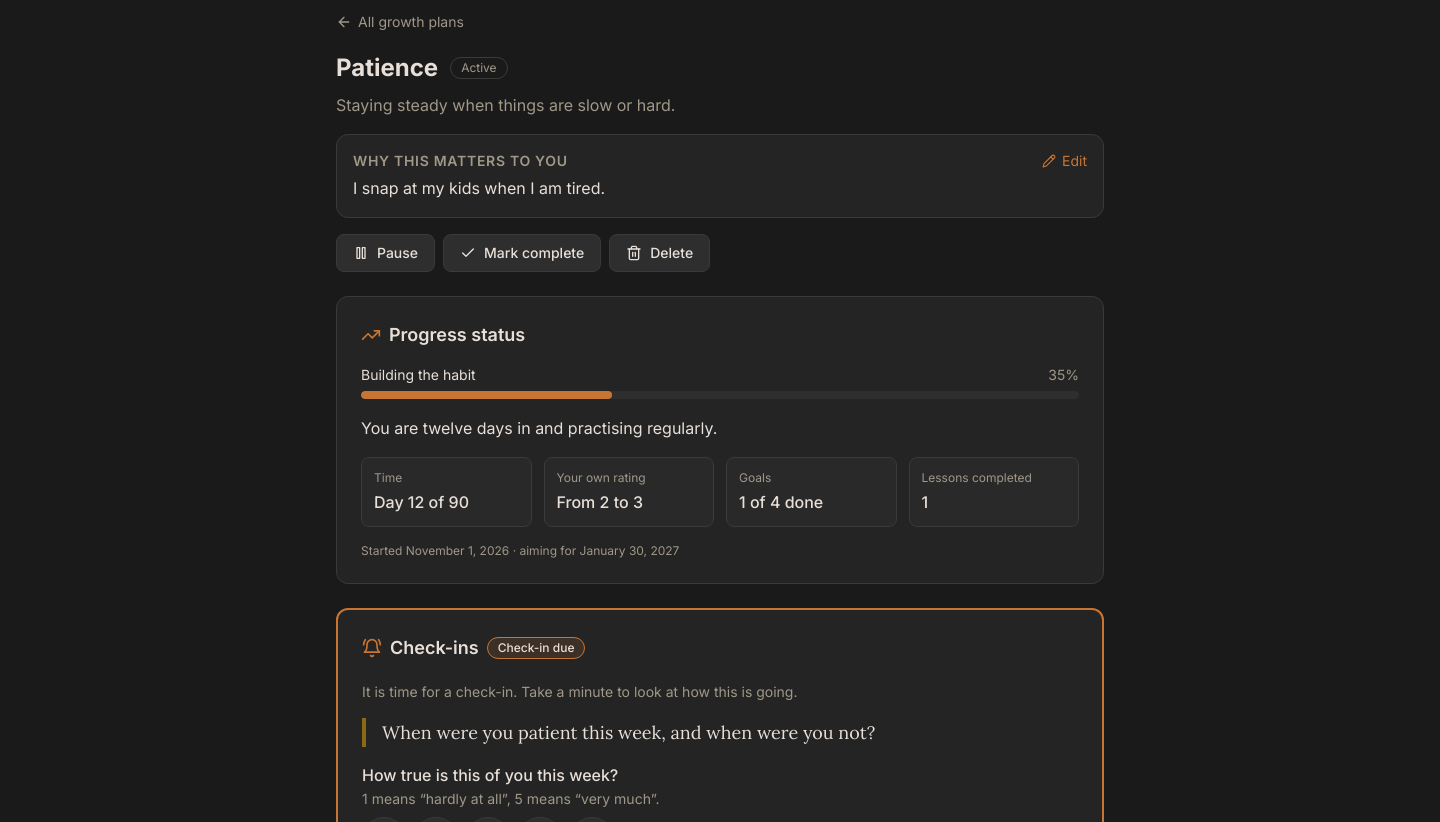
Test: GrowthPlanPage › marks the plan complete
Click the button "Mark complete" at (522, 253), box [443,234,601,272]
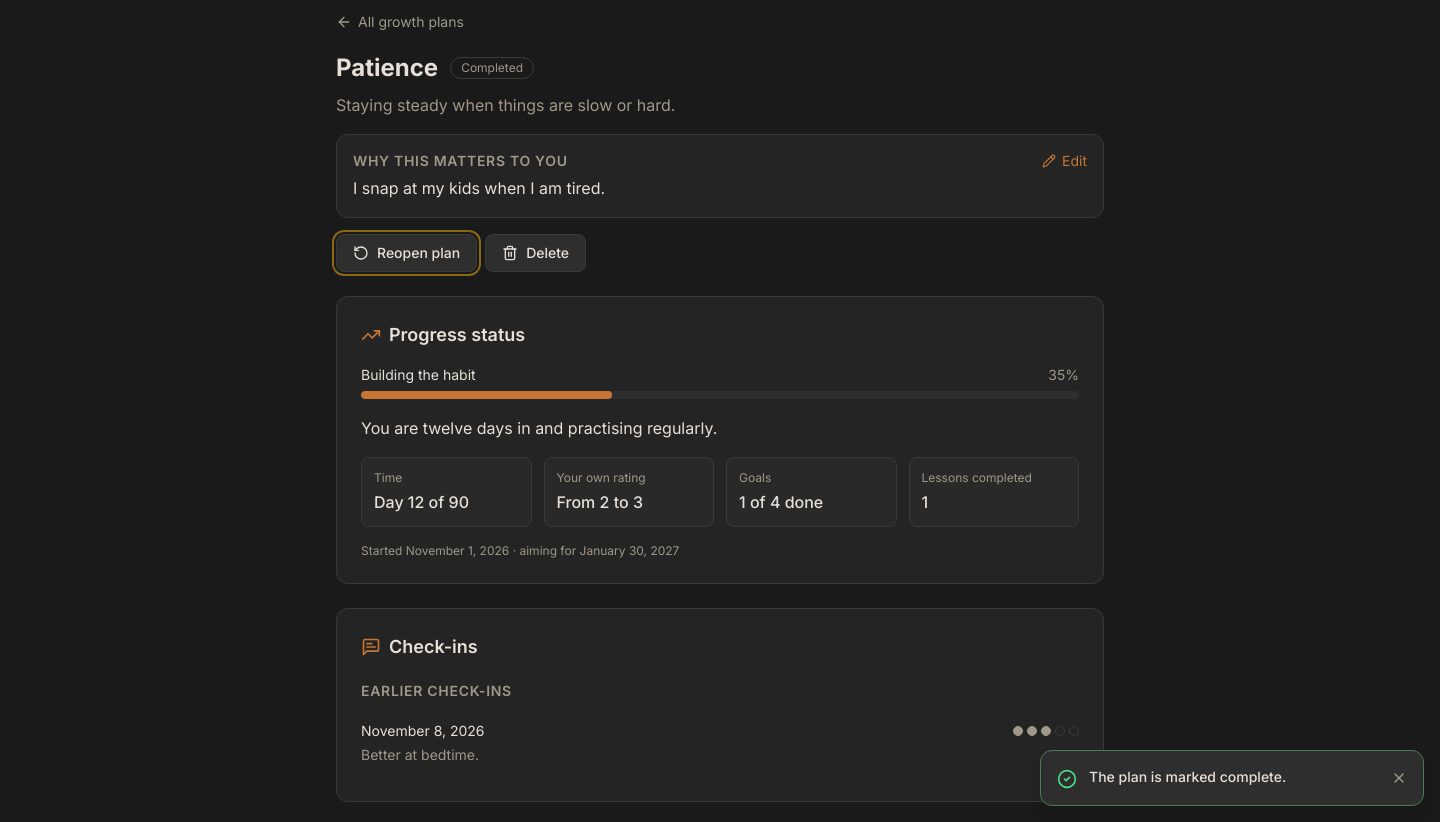
Expected: the button "Reopen plan" is shown, [336,234,477,272]
